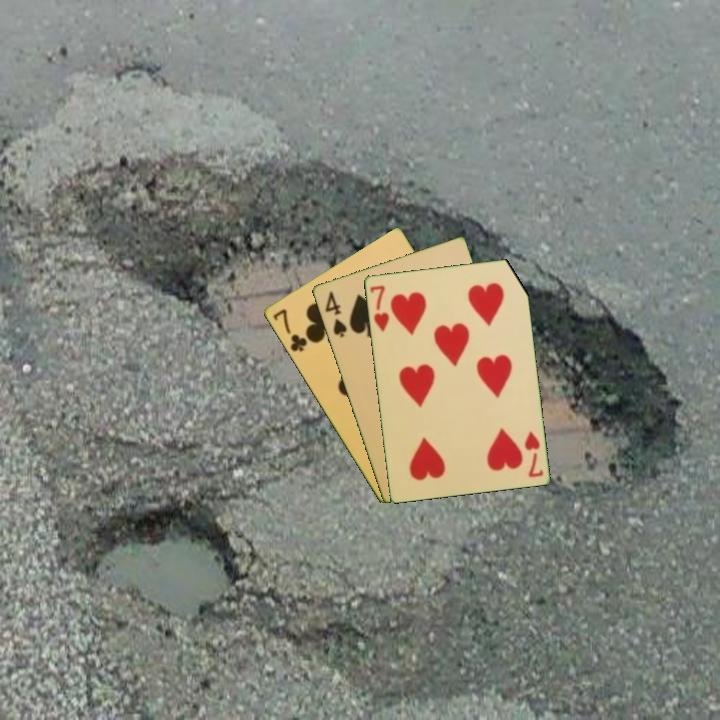4s: (321, 287, 350, 340)
7c: (269, 305, 310, 355)
7h: (366, 281, 392, 335), (521, 428, 546, 480)
